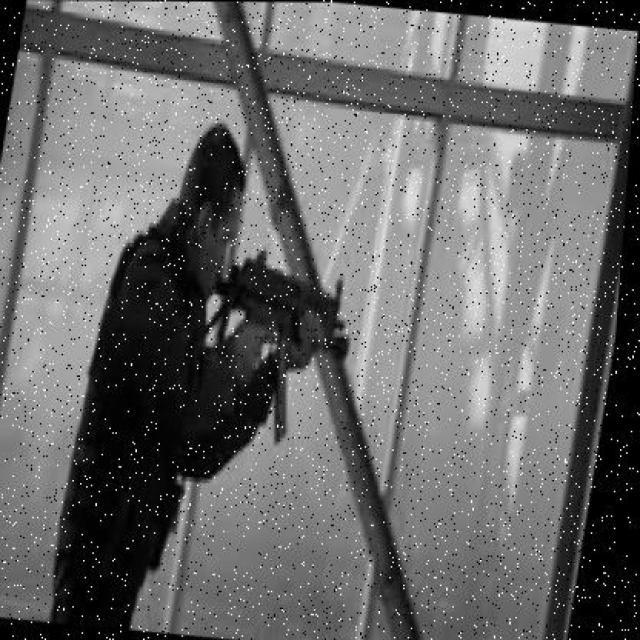weapon: (215, 246, 350, 445)
